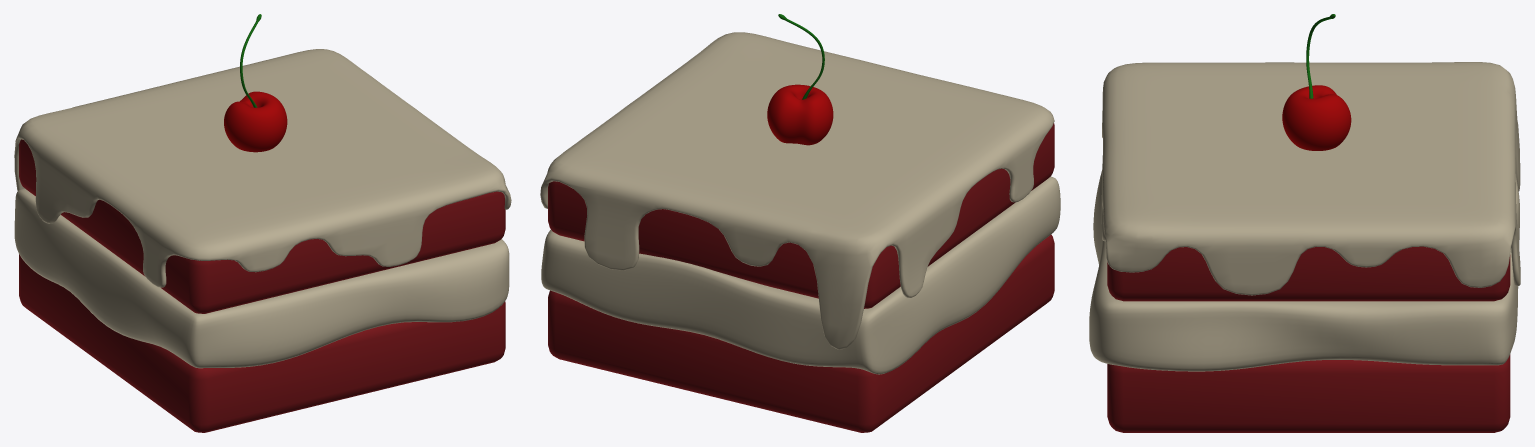
File: red-velvet-cake.fbx
3 renders of one model, left to right at view 1: azimuth 30°, elevation 25°; view 2: azimuth 150°, elevation 25°; view 3: azimuth 270°, elevation 25°, orthographic. The views are drawn at different scales.
Parts seen in each view (by area): view 1: glaze, cream, bottom-layer, red-velvet-cake, cherry.013; view 2: glaze, cream, bottom-layer, red-velvet-cake, cherry.013; view 3: glaze, cream, bottom-layer, red-velvet-cake, cherry.013.
Boxes of the visible parts, <box> form: glaze: <box>14,49,511,287</box>; cream: <box>14,188,509,368</box>; bottom-layer: <box>19,254,505,432</box>; red-velvet-cake: <box>19,139,505,313</box>; cherry.013: <box>224,91,287,152</box>; glaze: <box>540,32,1054,349</box>; cream: <box>541,176,1060,374</box>; bottom-layer: <box>548,234,1054,432</box>; red-velvet-cake: <box>548,123,1054,308</box>; cherry.013: <box>767,84,833,145</box>; glaze: <box>1101,62,1520,295</box>; cream: <box>1089,170,1519,371</box>; bottom-layer: <box>1107,354,1510,432</box>; red-velvet-cake: <box>1107,246,1510,301</box>; cherry.013: <box>1282,85,1351,150</box>.
Bounding box in the file's own units: 303 × 269 × 306.
